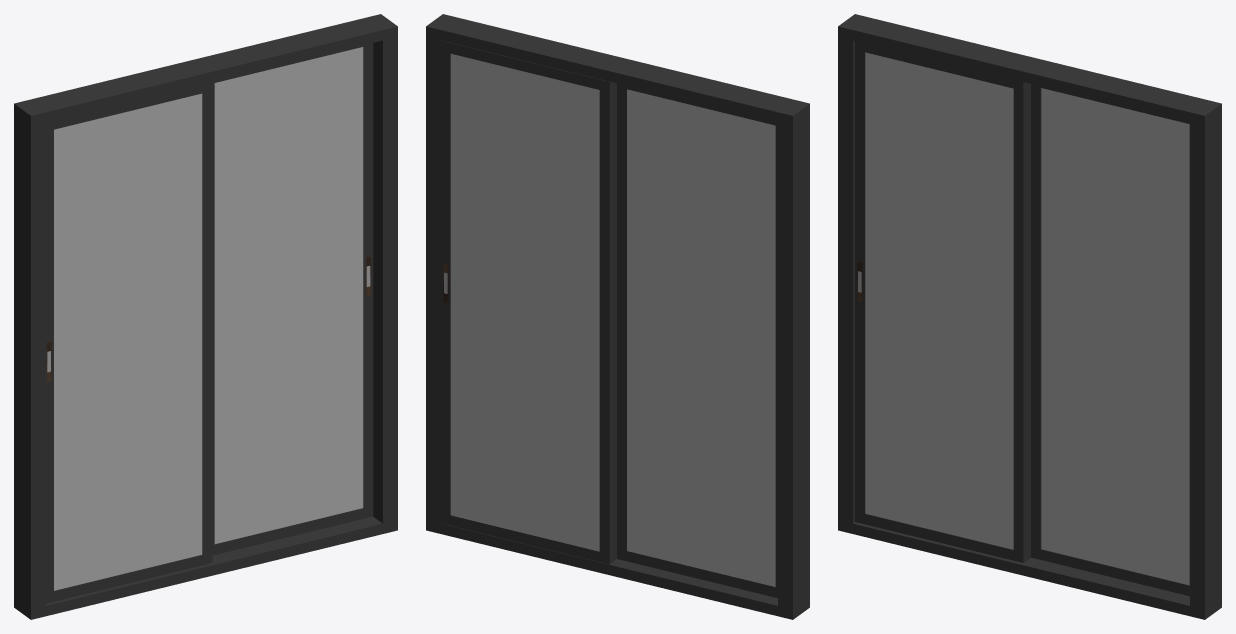
The model's file is SLIDING DOOR (160X210CM).glb.
3 renders of one model, left to right at view 1: azimuth 30°, elevation 25°; view 2: azimuth 150°, elevation 25°; view 3: azimuth 330°, elevation 25°, orthographic.
Parts seen in each view (by area): view 1: SLIDING DOOR-OP.1 (1.6M), cage_Cube.001; view 2: SLIDING DOOR-OP.1 (1.6M), cage_Cube.001; view 3: SLIDING DOOR-OP.1 (1.6M), cage_Cube.001.
Boxes of the visible parts, <box> form: SLIDING DOOR-OP.1 (1.6M): <box>46,43,373,603</box>; cage_Cube.001: <box>14,14,397,619</box>; SLIDING DOOR-OP.1 (1.6M): <box>441,40,777,597</box>; cage_Cube.001: <box>426,14,809,619</box>; SLIDING DOOR-OP.1 (1.6M): <box>855,41,1189,596</box>; cage_Cube.001: <box>838,14,1221,619</box>.
Size of the model in its own units: 1.6 by 2.1 by 0.1288.
Materials: 4 (1 with a texture image).
